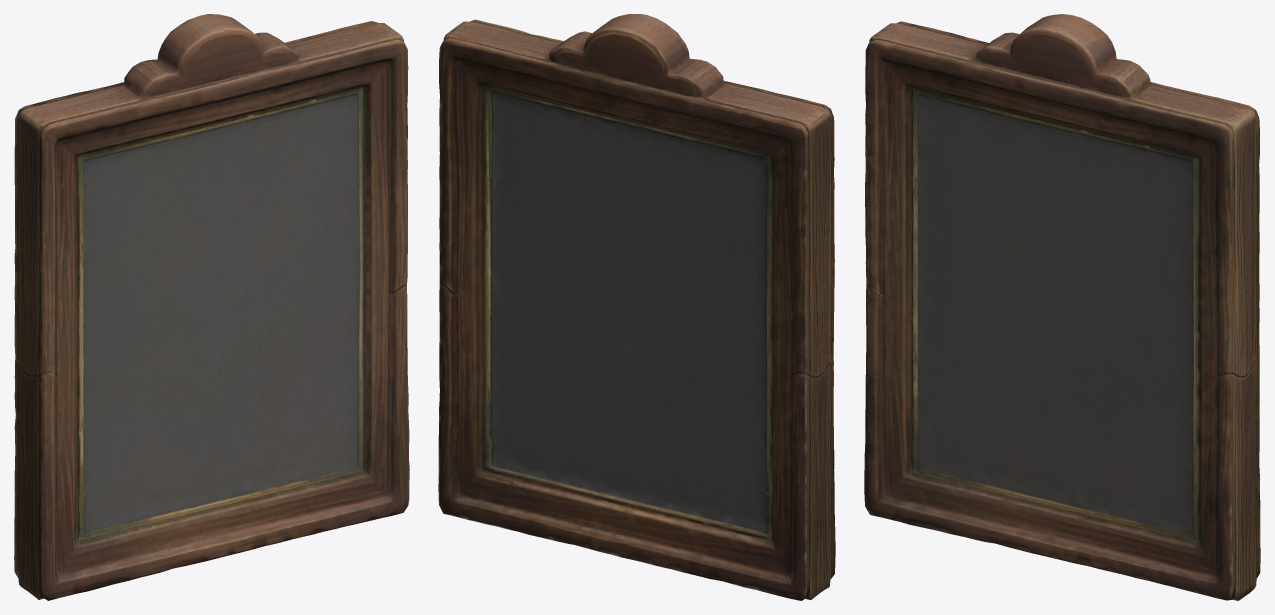
The model's file is Prop_PortraitFrame.fbx.
3 views of the same model, side by side, from view 1: azimuth 30°, elevation 25°; view 2: azimuth 150°, elevation 25°; view 3: azimuth 330°, elevation 25° (orthographic).
Parts seen in each view (by area): view 1: texture_mapping; view 2: texture_mapping; view 3: texture_mapping.
Boxes of the visible parts, bbox=[...] form: texture_mapping: bbox=[14, 14, 409, 600]; texture_mapping: bbox=[438, 14, 835, 600]; texture_mapping: bbox=[864, 14, 1260, 600].
Bounding box in the file's own units: 0.7325 × 0.1027 × 1.
Materials: 1 (1 with a texture image).
